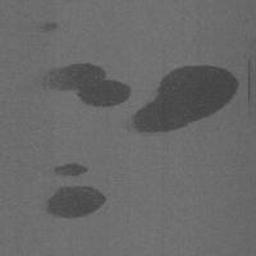Oil spot: (128, 63, 241, 136), (41, 61, 132, 109), (42, 183, 109, 220), (52, 161, 87, 177), (33, 20, 58, 33)
